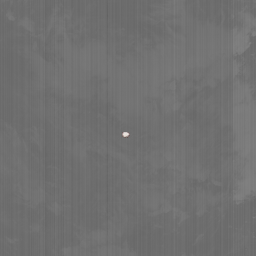Target: (121, 131, 130, 137)
